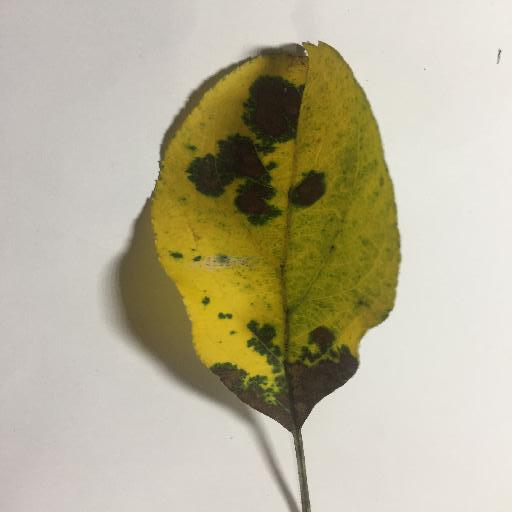Brown_Spot: (158, 72, 356, 232), (198, 317, 354, 426)
